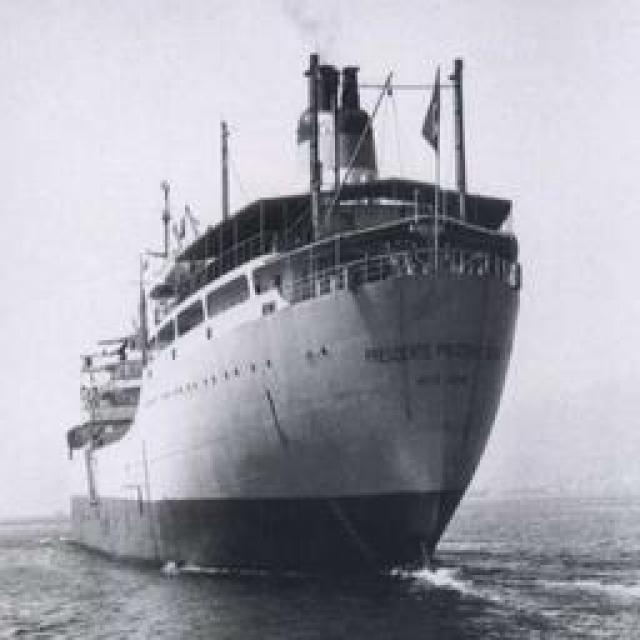Ship: (61, 54, 524, 574)
